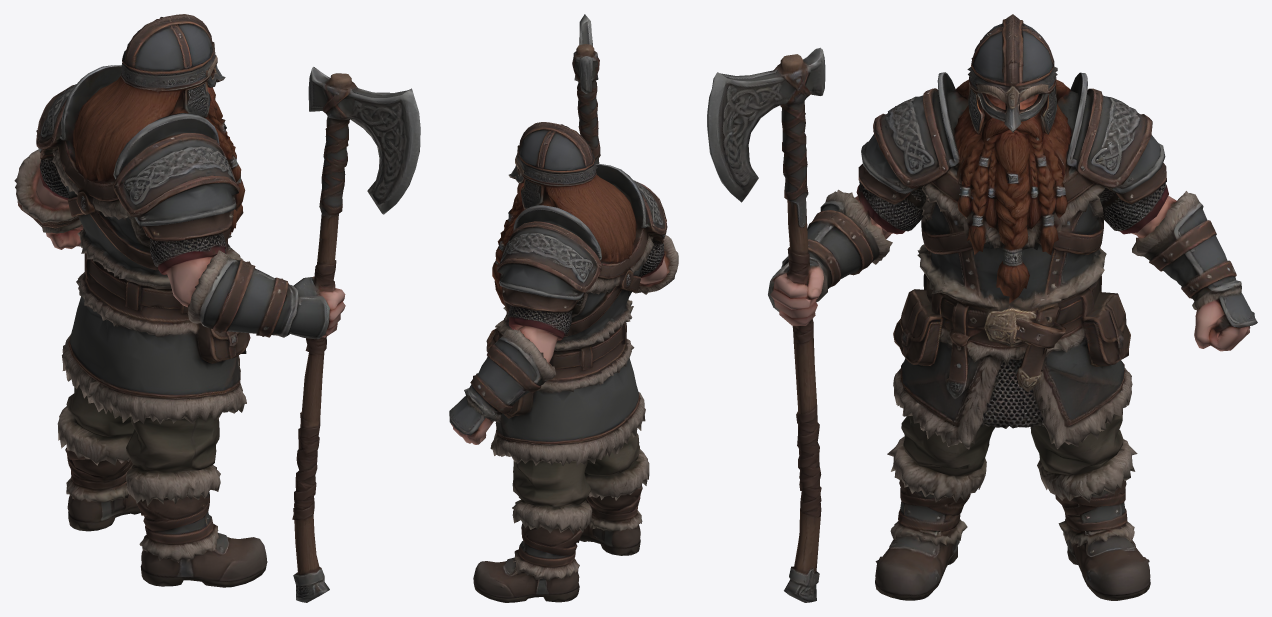
File: h31front-2.glb
3 views of the same model, side by side, from view 1: azimuth 30°, elevation 25°; view 2: azimuth 150°, elevation 25°; view 3: azimuth 270°, elevation 25° (orthographic). The views are drawn at different scales.
Parts seen in each view (by area): view 1: tripo_node_685d4ebf-7890-4441-958f-e043f8458773; view 2: tripo_node_685d4ebf-7890-4441-958f-e043f8458773; view 3: tripo_node_685d4ebf-7890-4441-958f-e043f8458773.
Part boxes in pixels (x1=…): tripo_node_685d4ebf-7890-4441-958f-e043f8458773: x1=14, y1=14, x2=420, y2=602; tripo_node_685d4ebf-7890-4441-958f-e043f8458773: x1=449, y1=14, x2=678, y2=602; tripo_node_685d4ebf-7890-4441-958f-e043f8458773: x1=707, y1=14, x2=1257, y2=602.
Size of the model in its own units: 0.3872 by 1 by 0.8842.
1 material, 1 textured.
